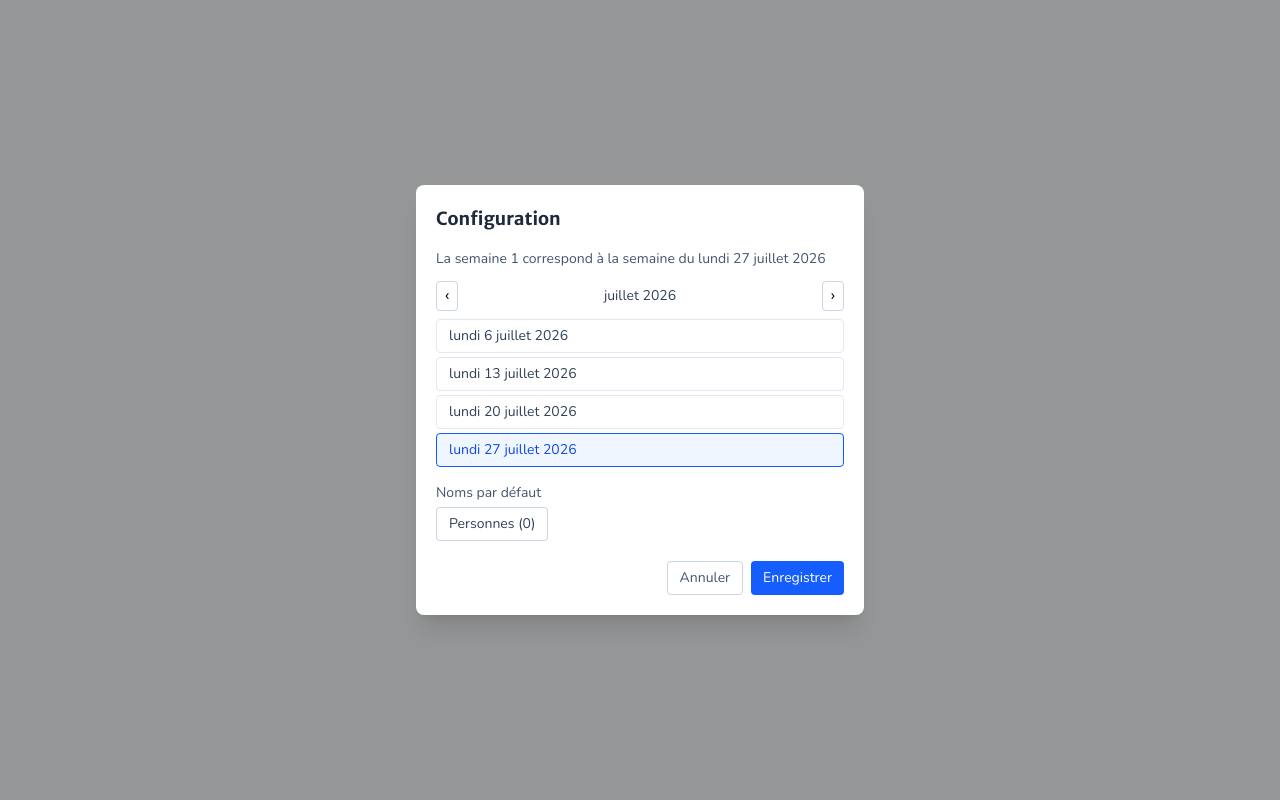
Test: ConfigModal › proposes the people list in the default names multi-select
expect the text "Noms par défaut" is shown: met, box top-left (436, 483), bottom-right (541, 502)
Step 1. Click the button "Personnes (0)" → {"x": 492, "y": 524}, box top-left (436, 507), bottom-right (548, 541)
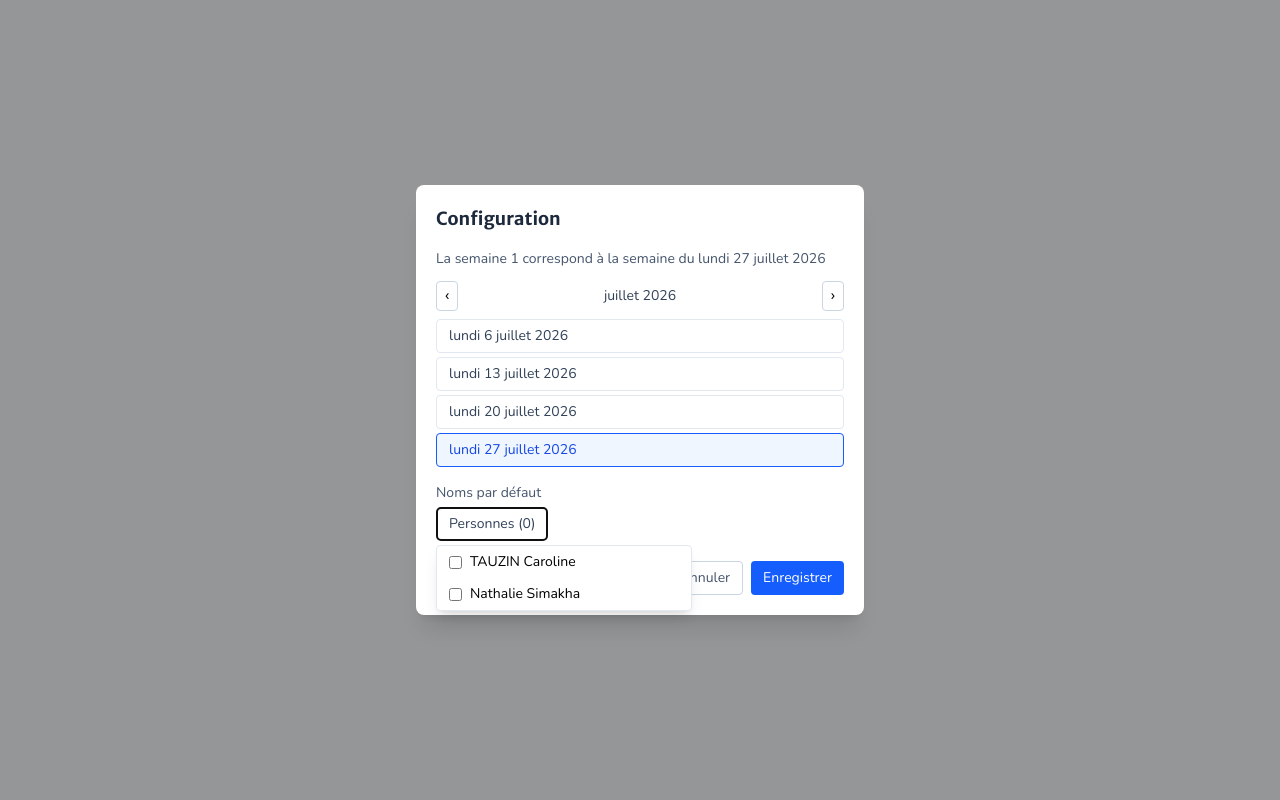
expect the checkbox labelled "TAUZIN Caroline" is shown: met
expect the checkbox labelled "Nathalie Simakha" is shown: met, box top-left (449, 588), bottom-right (462, 600)
Step 2. Click the checkbox labelled "TAUZIN Caroline" → {"x": 456, "y": 562}, box top-left (449, 556), bottom-right (462, 568)
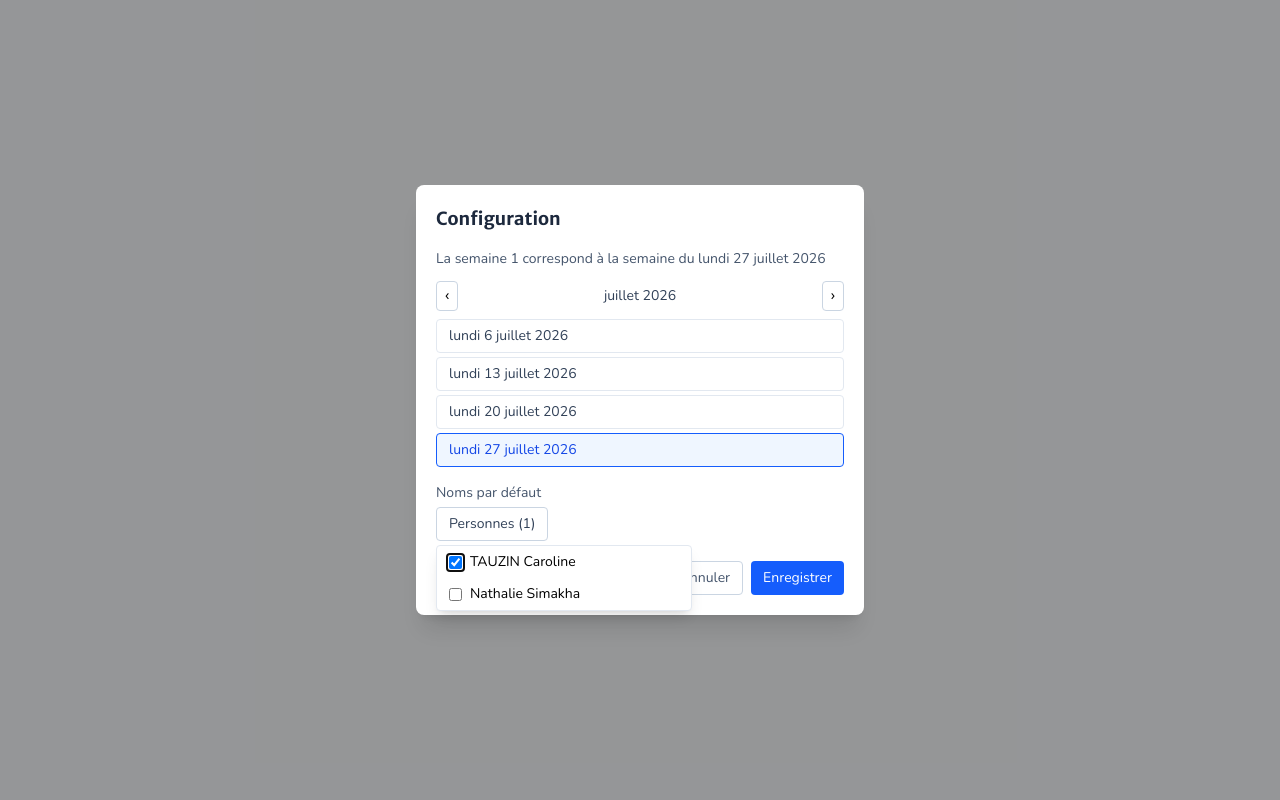
Step 3. Click the checkbox labelled "Nathalie Simakha" → {"x": 456, "y": 594}, box top-left (449, 588), bottom-right (462, 600)
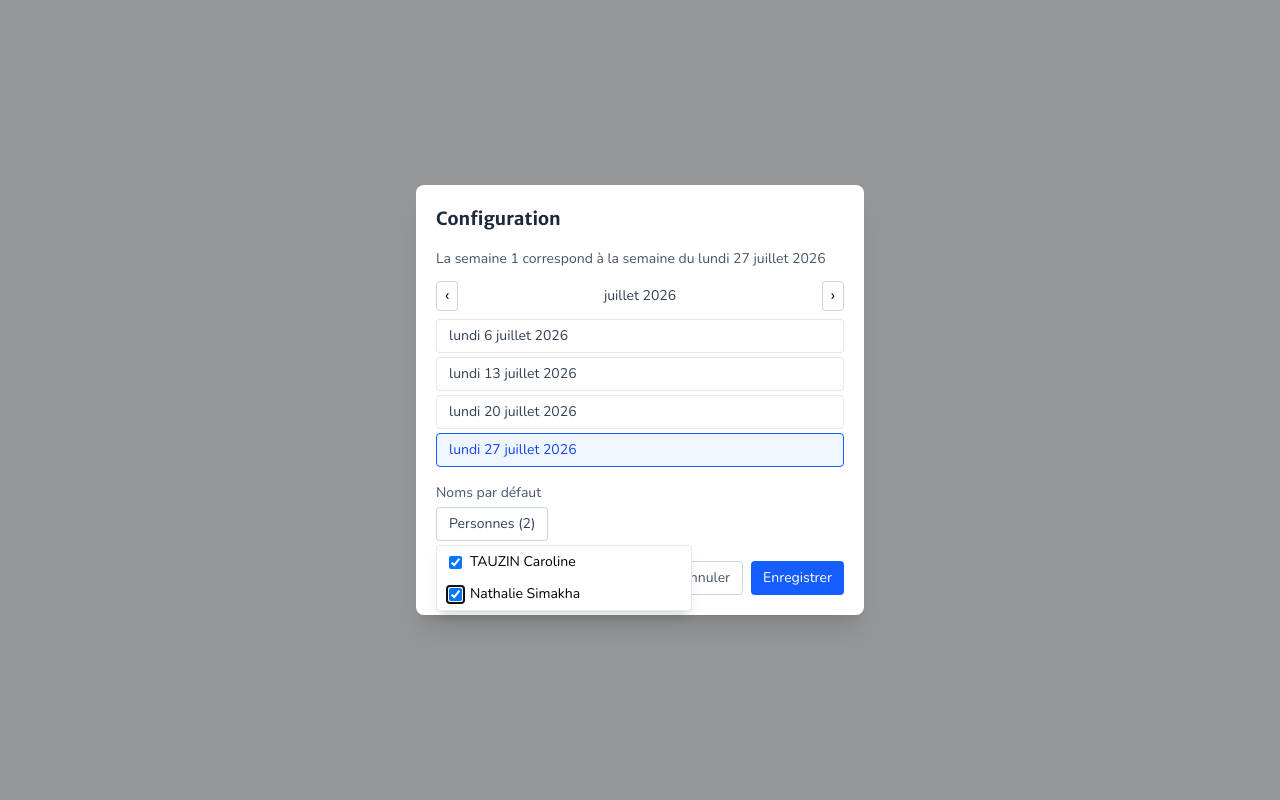
expect the button "Personnes (2)" is shown: met, box top-left (436, 507), bottom-right (548, 541)
